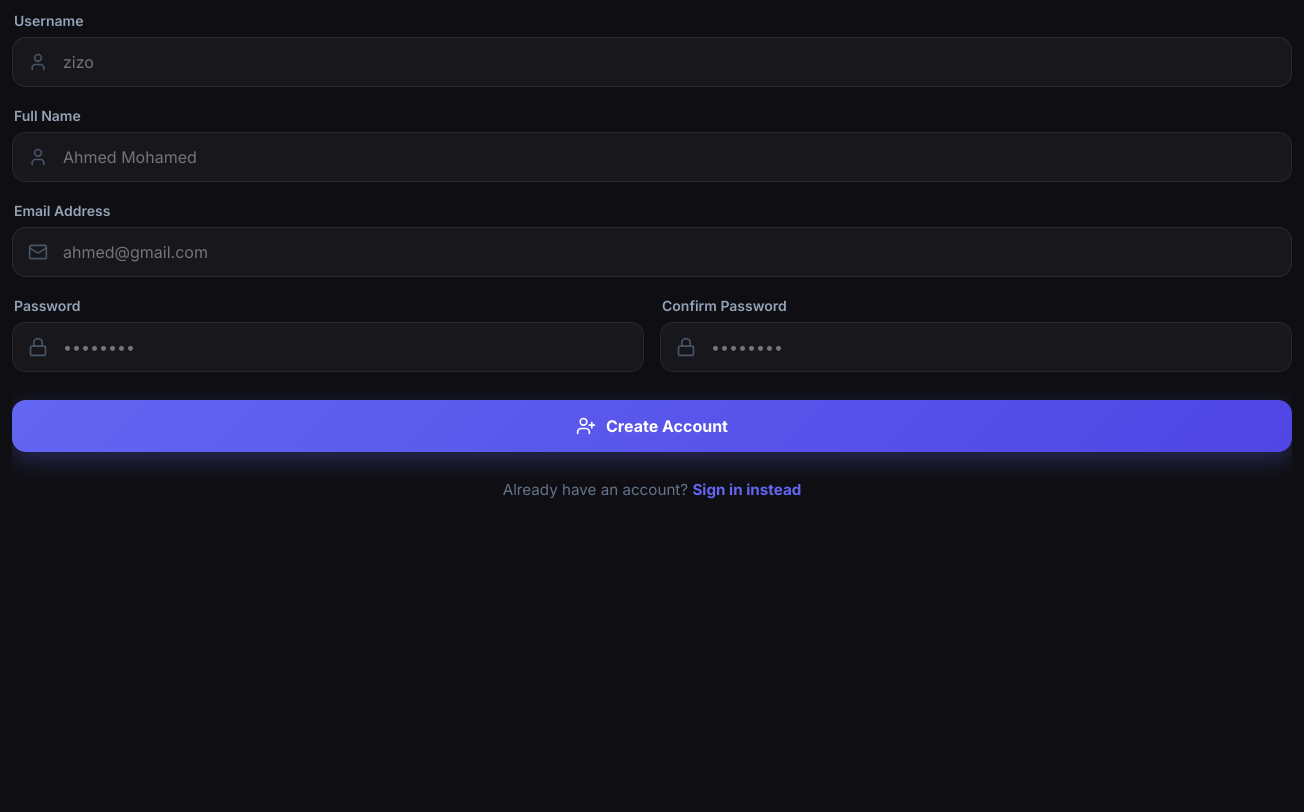
Scenario: RegisterPage › shows all required errors when form is empty and submitted
What coordinates should you click on to do the following:
click the button "Create Account"
I would click on:
 (652, 426)
Its box is [12, 400, 1292, 452].
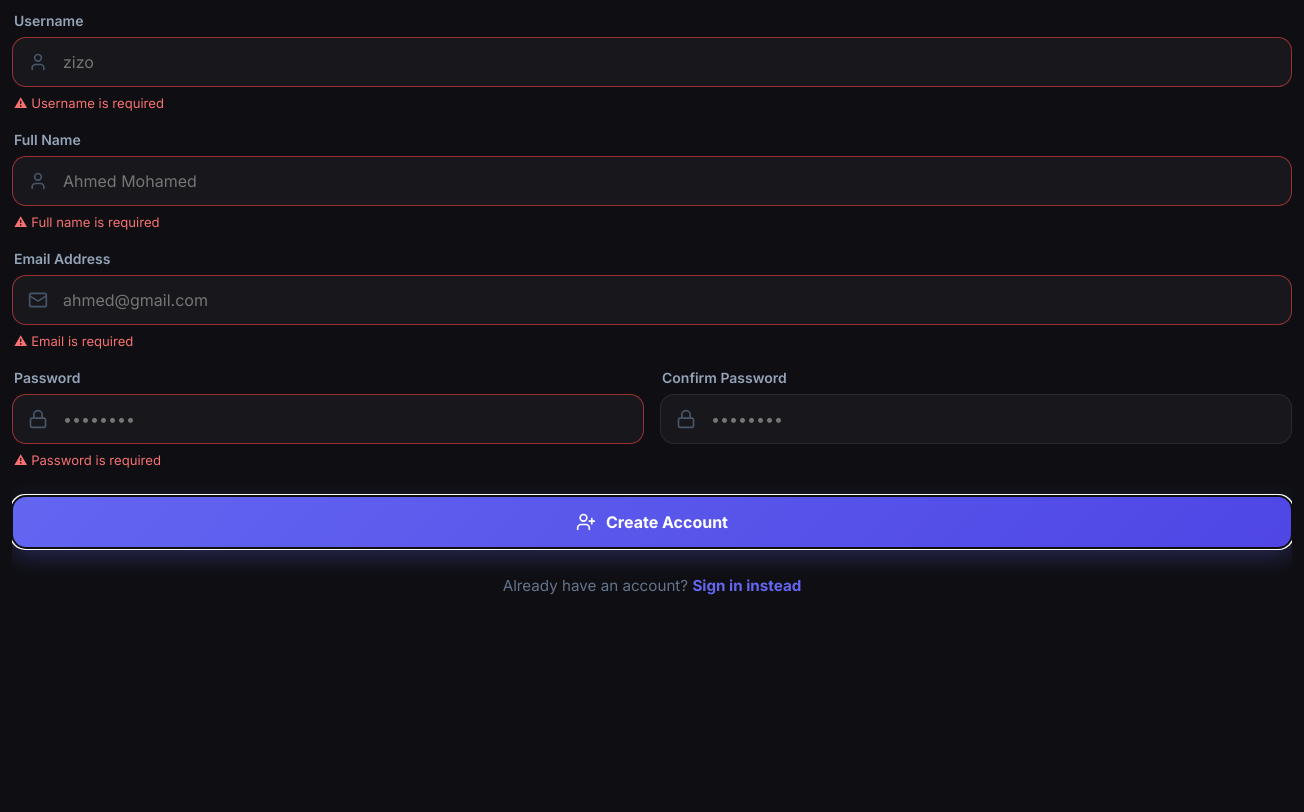
Now the text "⚠ Username is required" is shown, box [14, 95, 164, 111]
Now the text "⚠ Full name is required" is shown, box [14, 214, 160, 230]
Now the text "⚠ Email is required" is shown, box [14, 333, 133, 349]
